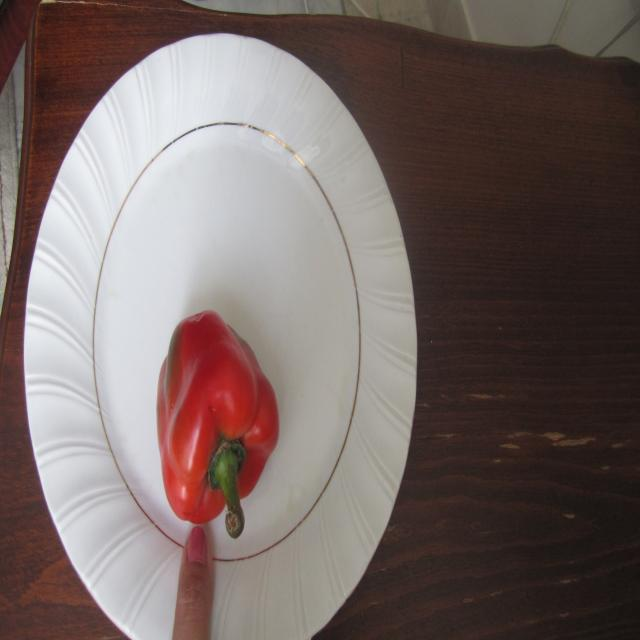Pepper: (155, 307, 280, 538)
